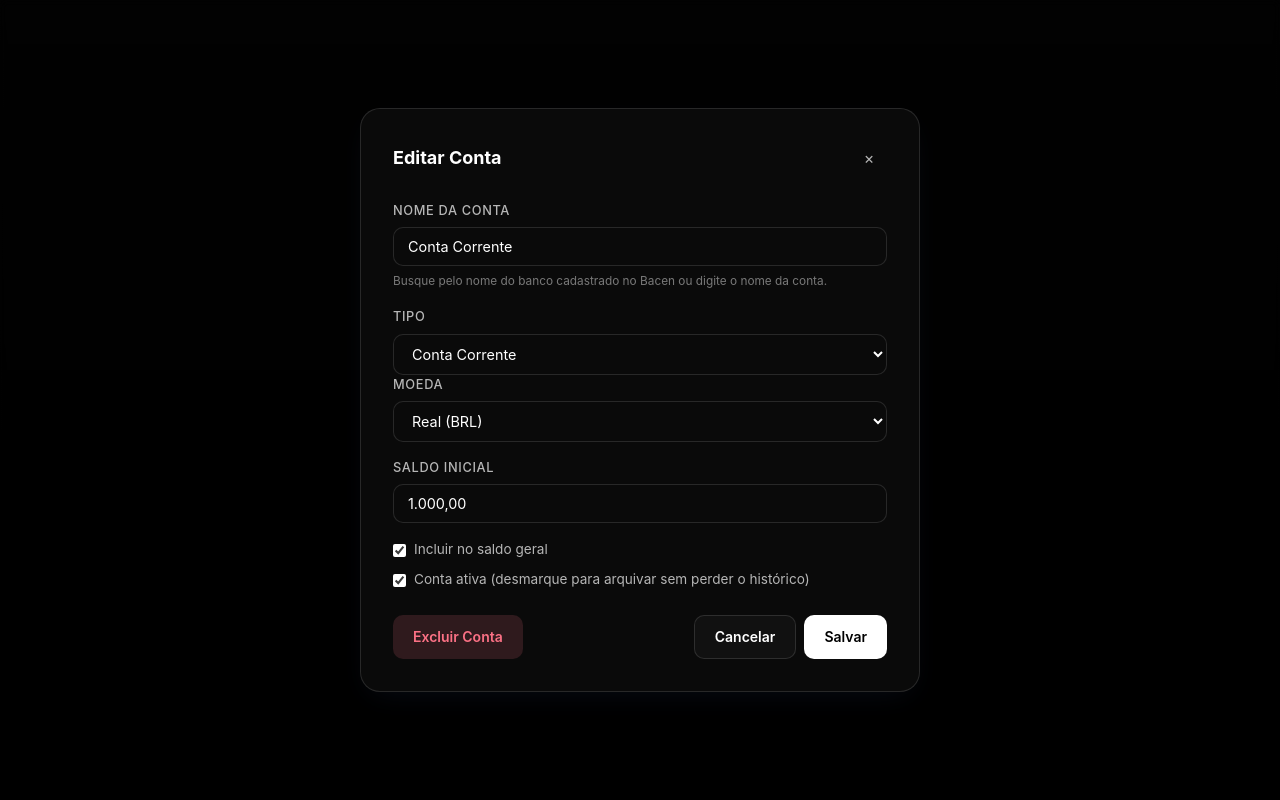
Test: AccountModal › shows the backend error and keeps the modal open when deletion is blocked
The image size is (1280, 800).
Click the button "Excluir Conta": click(458, 637) [393,615,523,659]
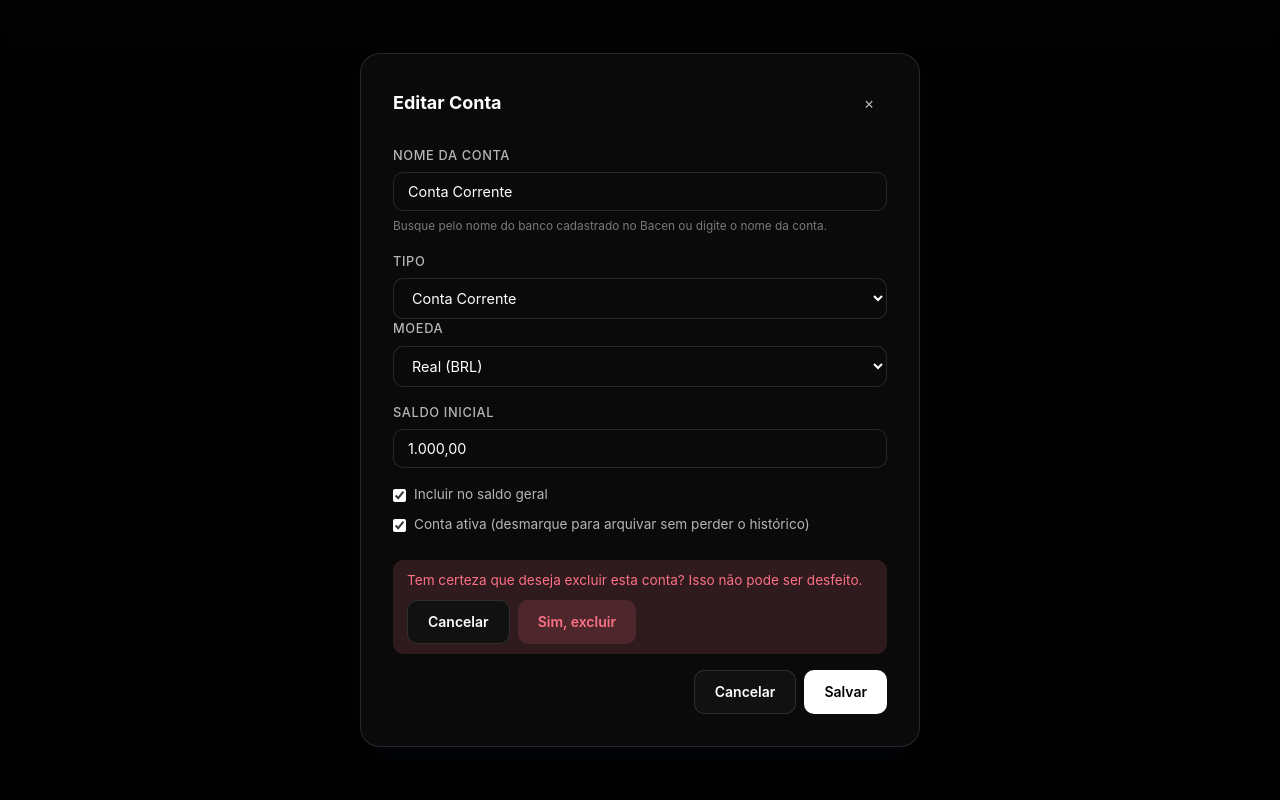
Click the button "Sim, excluir": click(577, 622) [518,600,636,644]
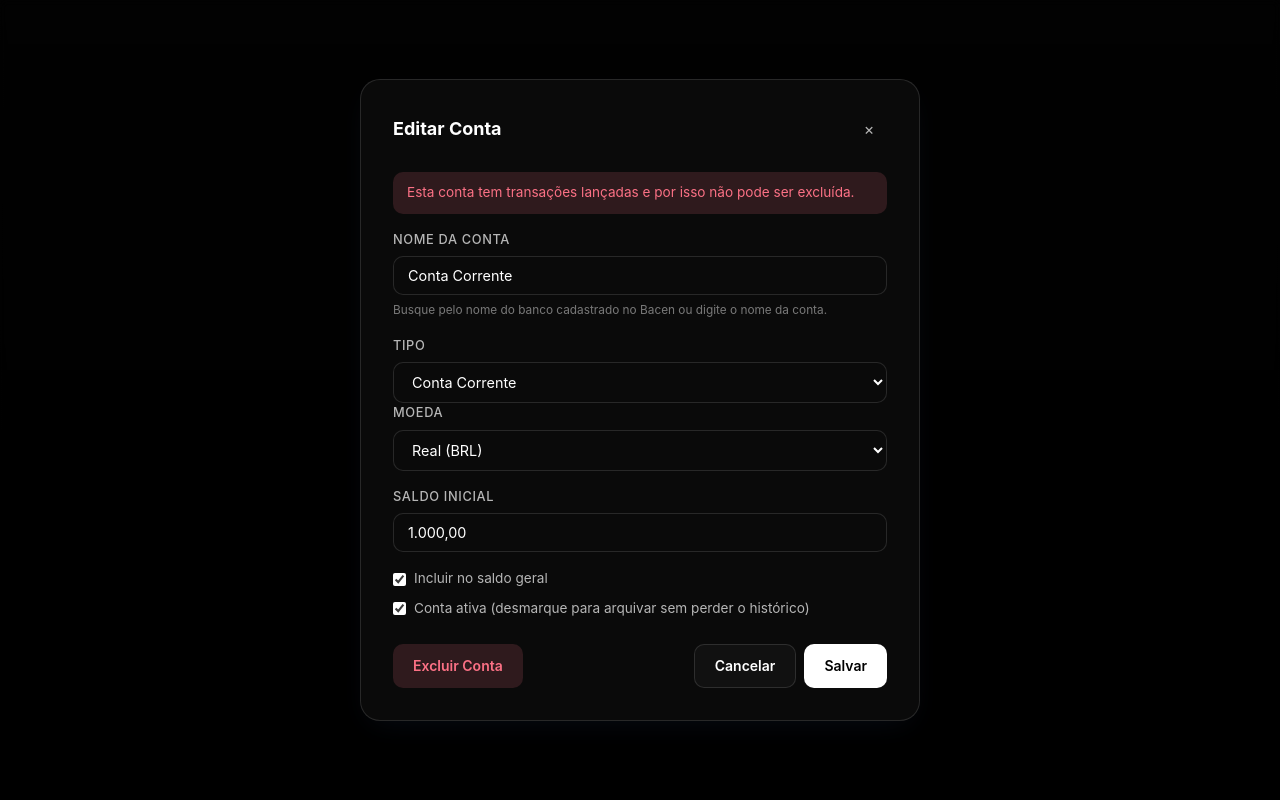
Expected: the text "Esta conta tem transações lançadas" is shown, [407,184,854,200]
